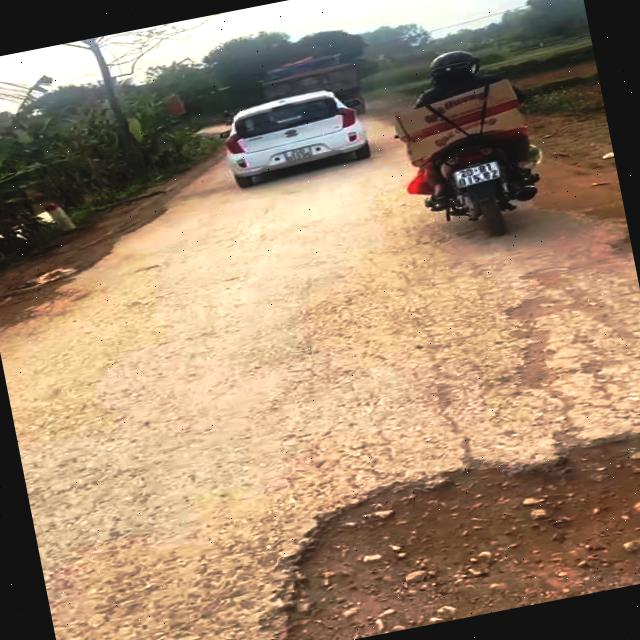pothole: (238, 421, 640, 640), (502, 287, 580, 398)
